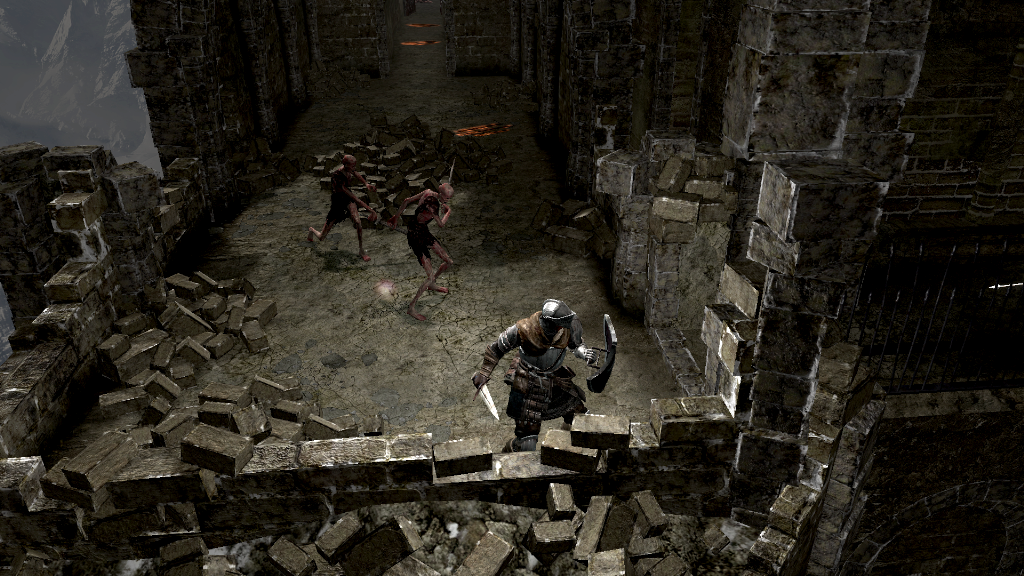hollow: (388, 183, 454, 322), (307, 154, 377, 261)
player: (471, 297, 619, 436)
